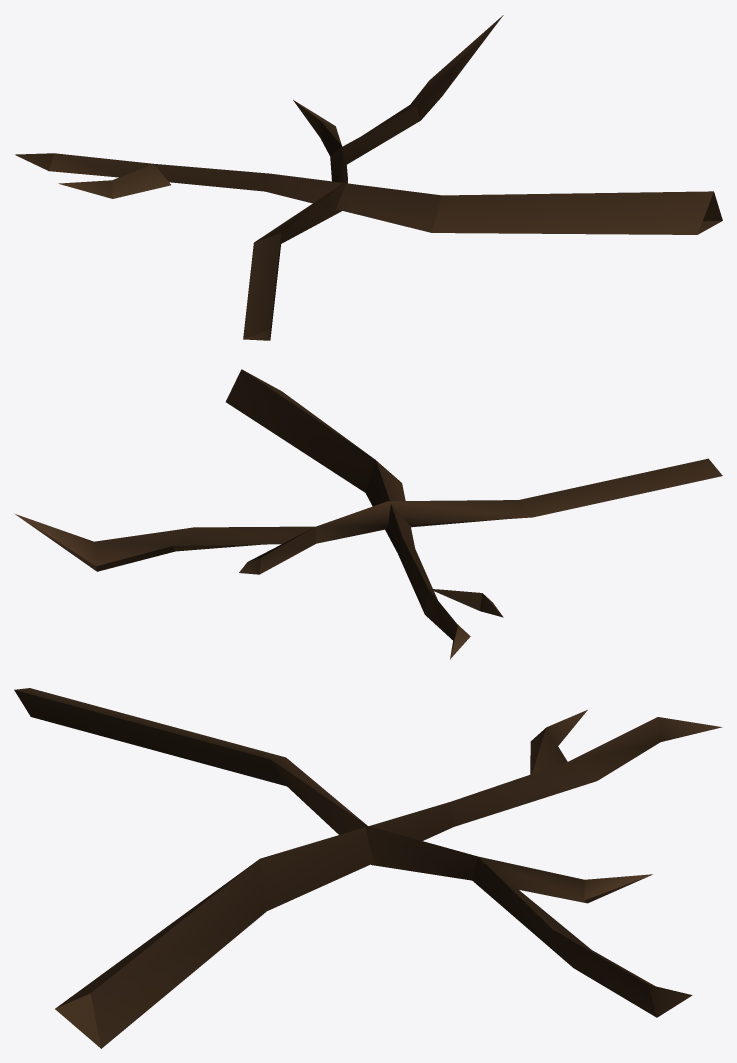
Rendered from goblin_trapmarker_v1.fbx.
3 views of the same model, one above another, from view 1: azimuth 30°, elevation 25°; view 2: azimuth 150°, elevation 25°; view 3: azimuth 270°, elevation 25° (orthographic). The views are drawn at different scales.
Parts seen in each view (by area): view 1: gobb_trapmarker; view 2: gobb_trapmarker; view 3: gobb_trapmarker.
Boxes of the visible parts, x1,y1,x2,y2 form: gobb_trapmarker: [15, 15, 722, 340]; gobb_trapmarker: [14, 369, 722, 659]; gobb_trapmarker: [14, 688, 722, 1048].
Bounding box in the file's own units: 2.96 × 2.68 × 0.2992.
